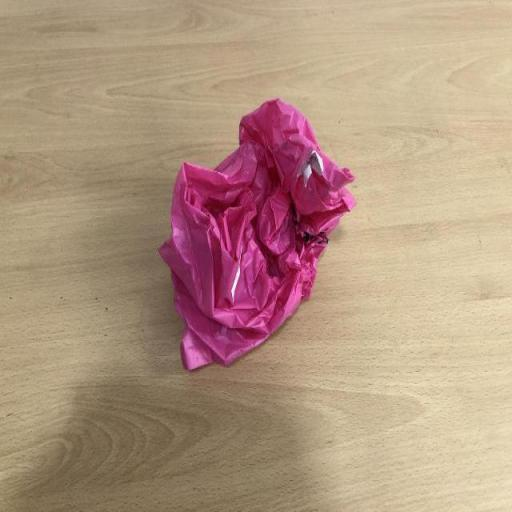plastic-bag: (158, 95, 361, 375)
